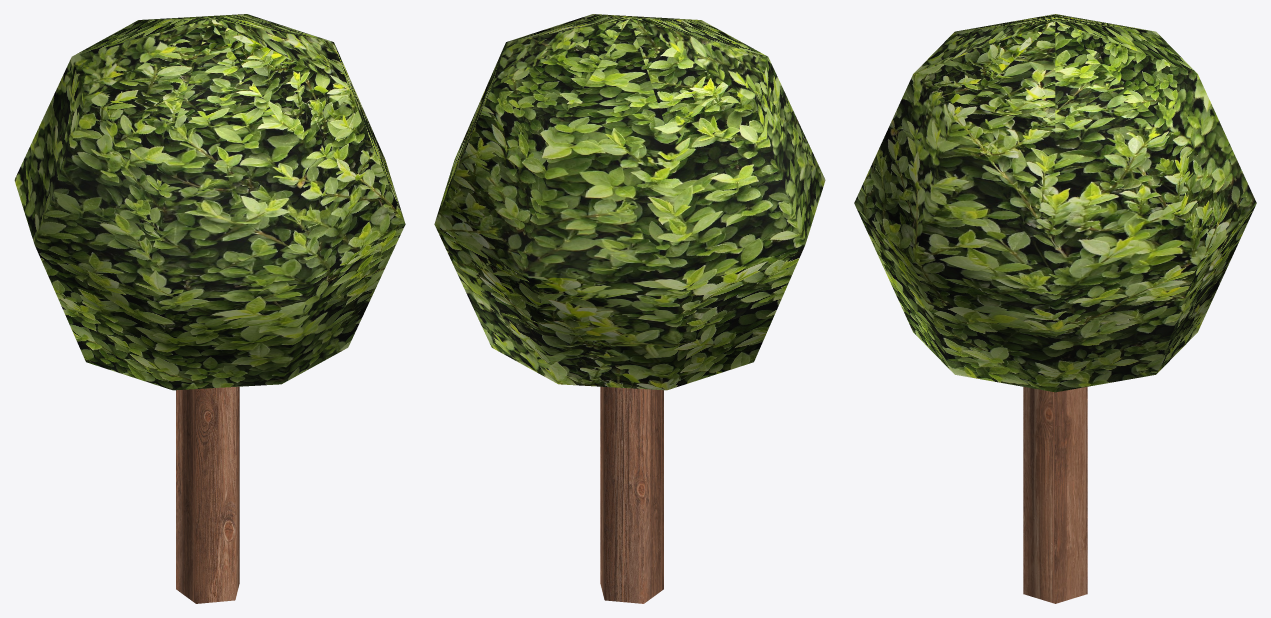
File: Boom.FBX
The picture shows the model from 3 angles, left to right: view 1: azimuth 30°, elevation 25°; view 2: azimuth 150°, elevation 25°; view 3: azimuth 270°, elevation 25°; orthographic projection.
Parts seen in each view (by area): view 1: Boom; view 2: Boom; view 3: Boom.
Boxes of the visible parts, bbox=[...] form: Boom: bbox=[14, 14, 405, 603]; Boom: bbox=[434, 14, 825, 603]; Boom: bbox=[854, 14, 1256, 603].
Bounding box in the file's own units: 86.72 × 86.72 × 135.
Materials: 2 (2 with a texture image).
